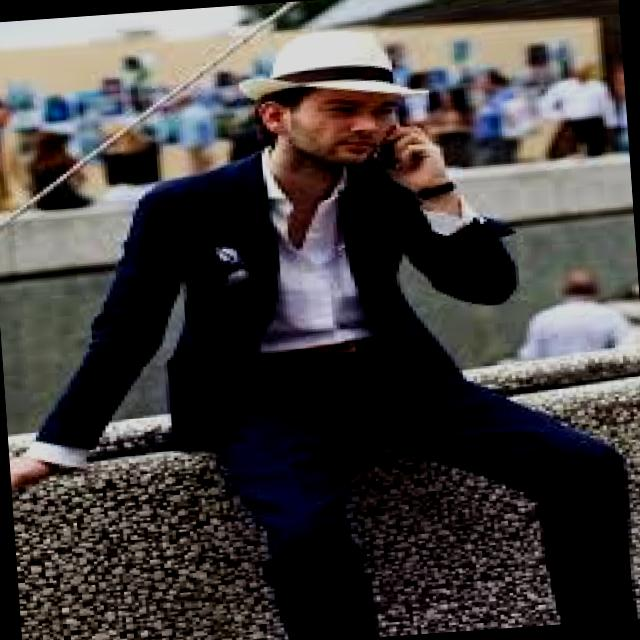hat: (239, 31, 428, 100)
lower-wear: (217, 348, 636, 639)
